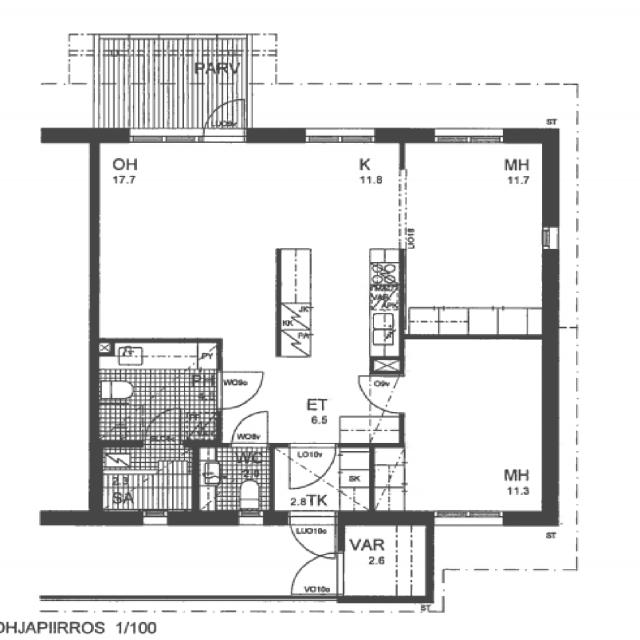door: (282, 441, 340, 495), (285, 506, 338, 558), (287, 546, 342, 596), (210, 365, 266, 412), (355, 370, 403, 418), (230, 407, 274, 445), (204, 100, 247, 136), (143, 404, 183, 438)
window: (428, 506, 509, 532), (426, 124, 508, 149), (120, 124, 204, 147), (298, 125, 381, 146), (539, 222, 564, 252), (138, 509, 172, 526), (236, 509, 268, 527), (204, 608, 227, 616)
zone: (402, 136, 549, 336), (394, 335, 549, 516), (93, 337, 223, 440), (98, 441, 196, 514), (342, 520, 428, 600), (197, 442, 272, 514), (68, 34, 94, 56)
